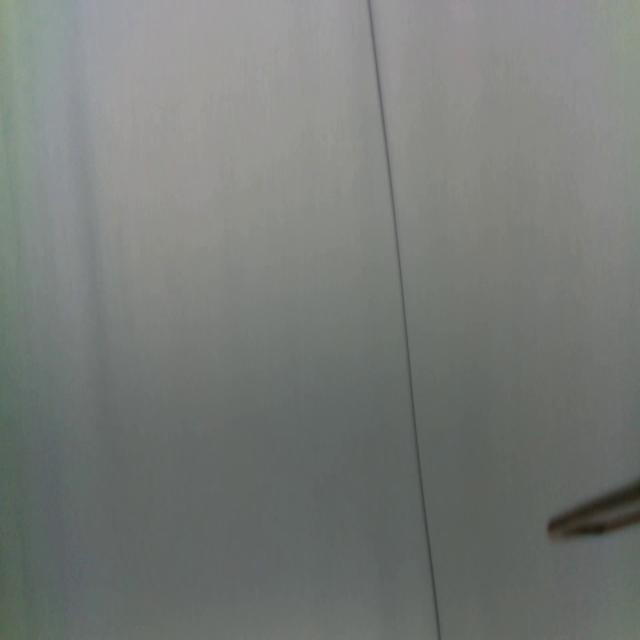crease: (366, 0, 441, 640)
